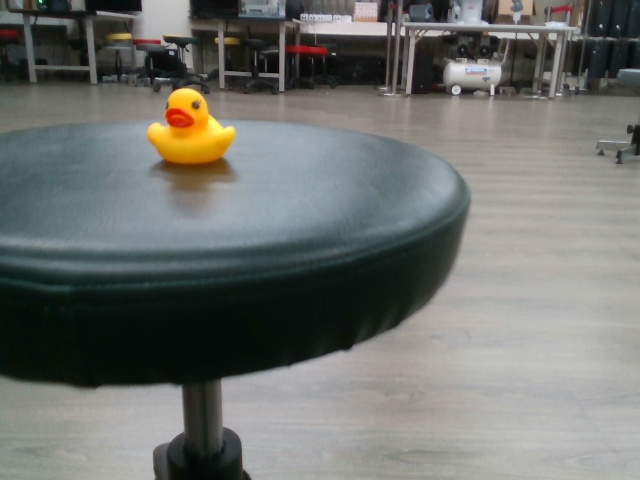duck: (146, 84, 239, 165)
